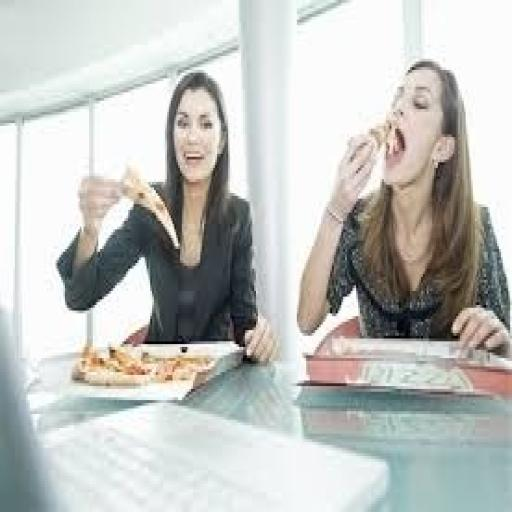eating: (54, 67, 278, 367), (295, 56, 510, 361)
